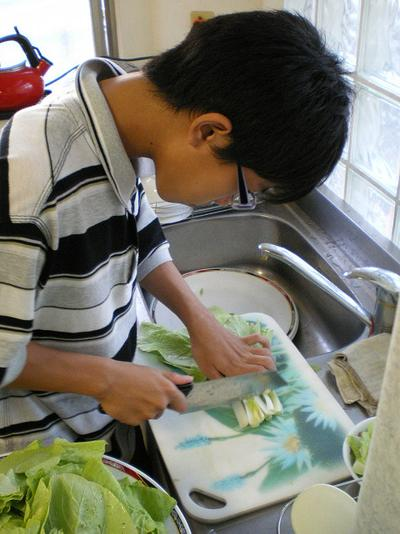person: (1, 11, 353, 471)
